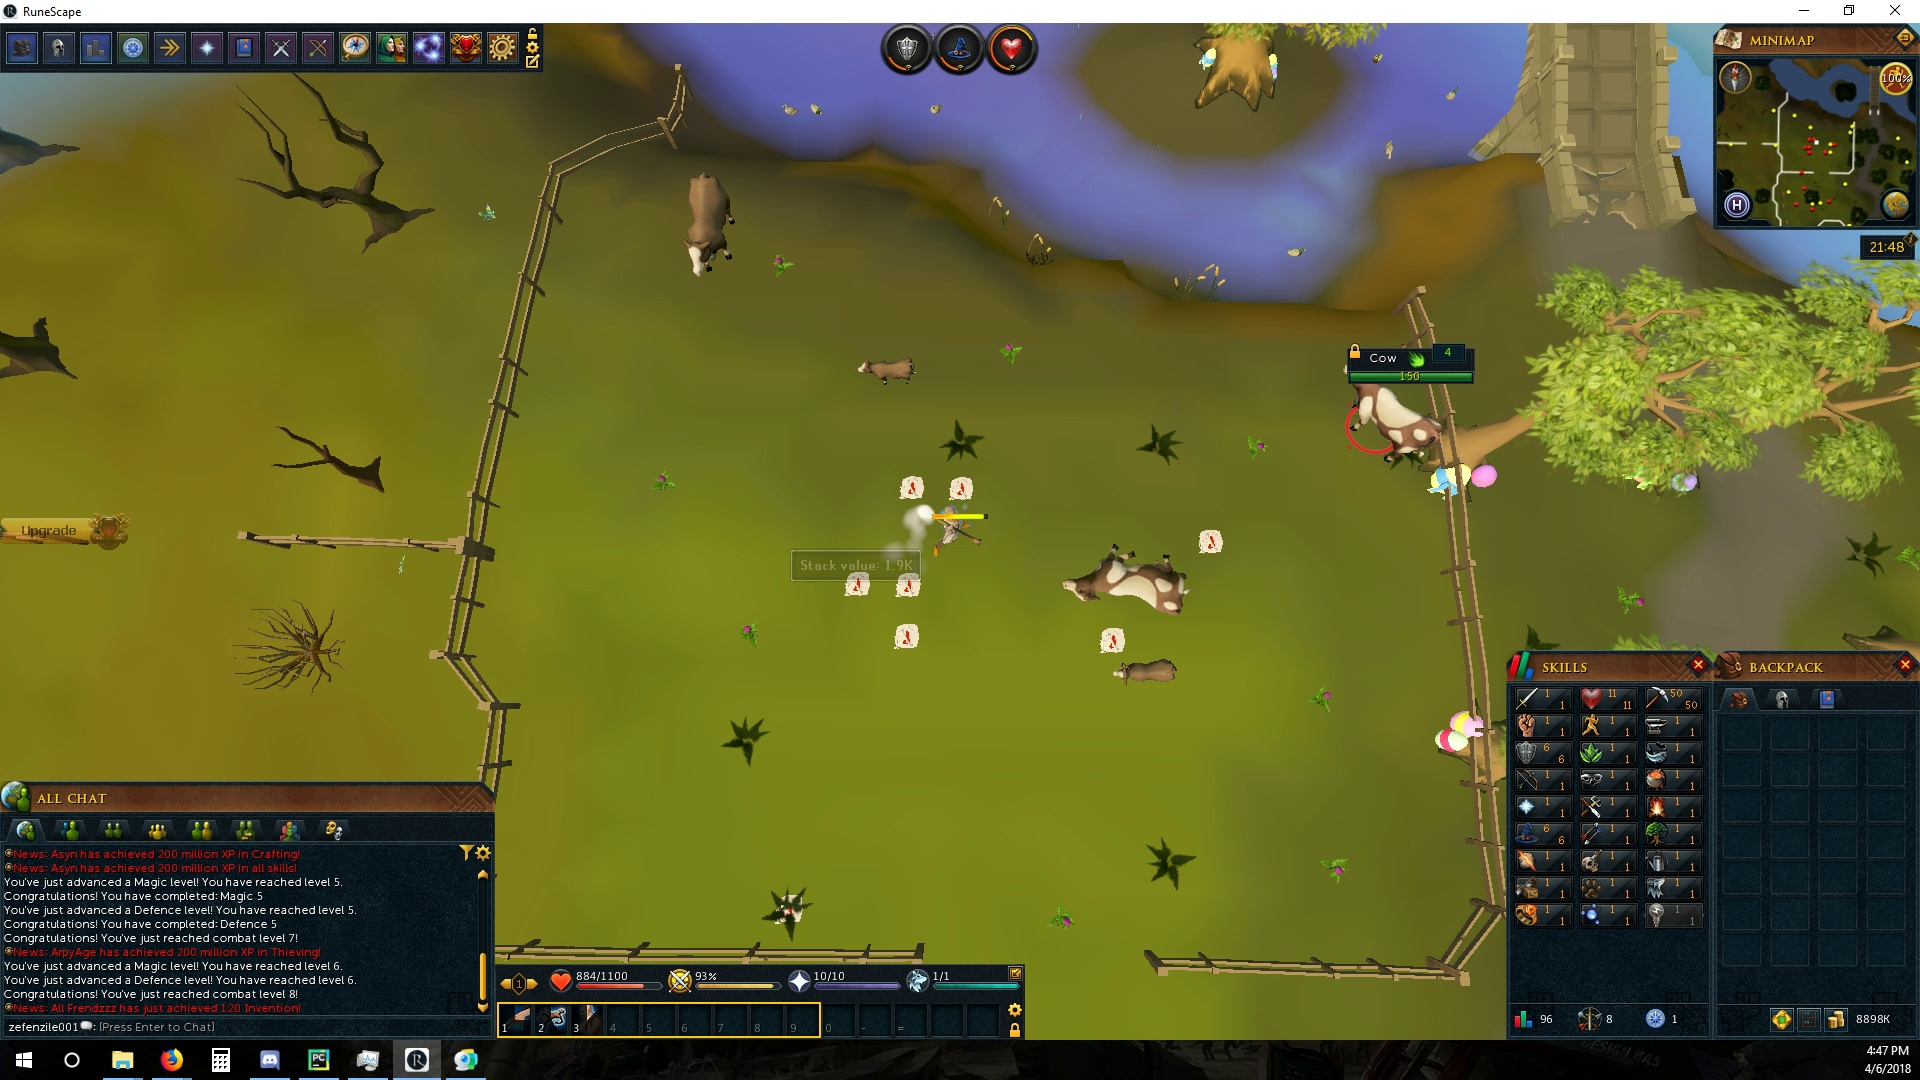calf: (1113, 657, 1185, 684), (851, 357, 916, 385)
cow: (1062, 545, 1189, 618), (1344, 384, 1443, 468), (680, 171, 738, 278)
cow_drop: (839, 568, 877, 600), (894, 571, 924, 603), (895, 475, 928, 501), (1096, 628, 1129, 654), (891, 622, 920, 651), (948, 473, 977, 500), (1201, 524, 1224, 556)
